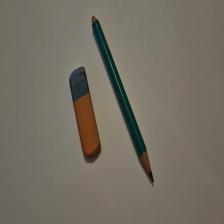eraser: (70, 67, 102, 158)
pencil: (93, 16, 155, 184)
